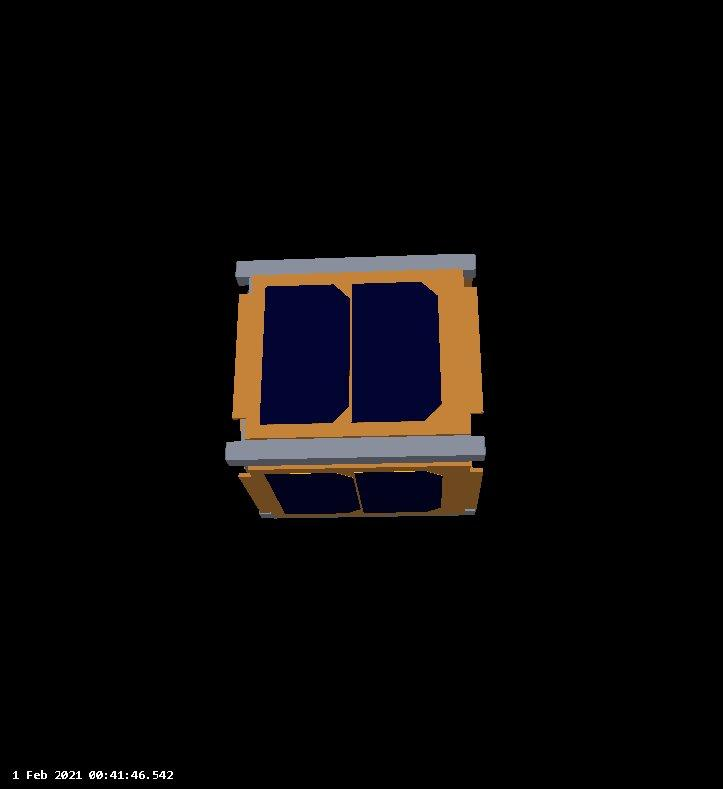body: (222, 251, 489, 523)
solar: (257, 280, 448, 427), (261, 469, 450, 517)
